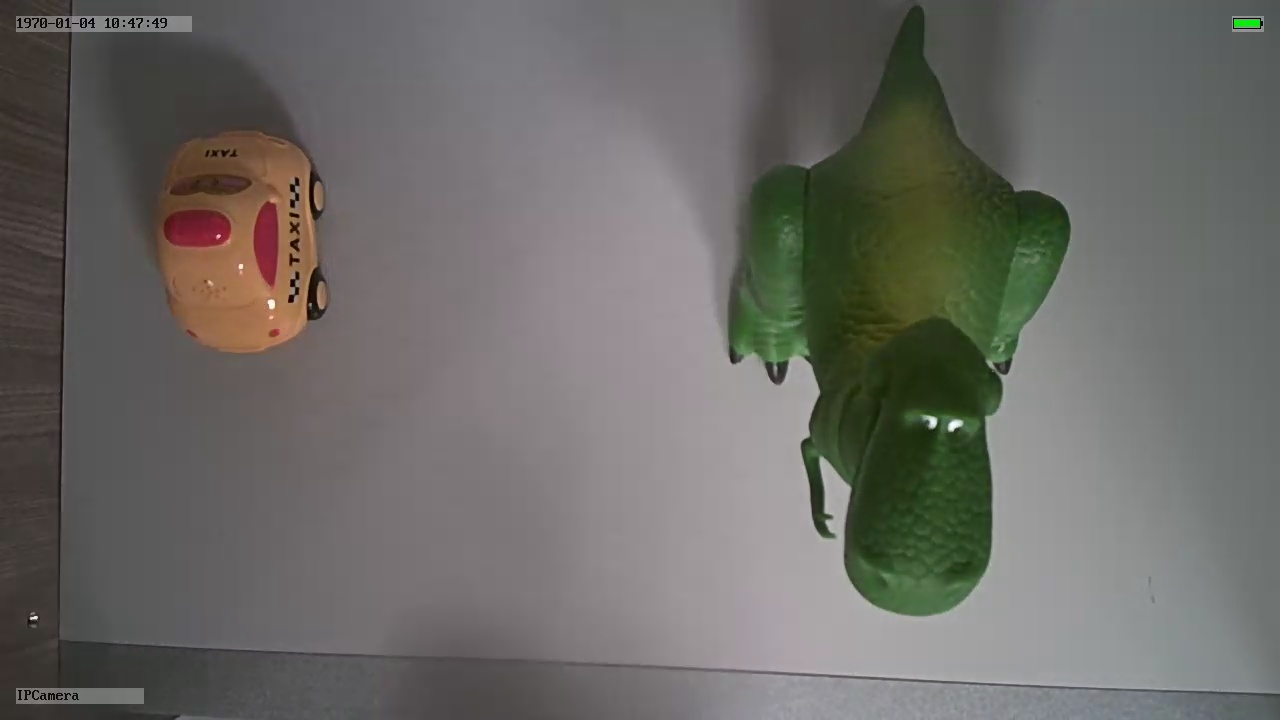car: (153, 124, 330, 358)
rex: (728, 84, 1073, 621)
